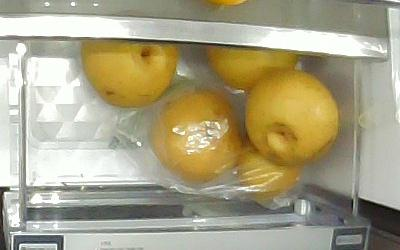pear: (244, 70, 341, 169), (80, 40, 178, 109), (200, 45, 301, 89)
pear_vinyl: (150, 89, 242, 186), (238, 142, 301, 200)
